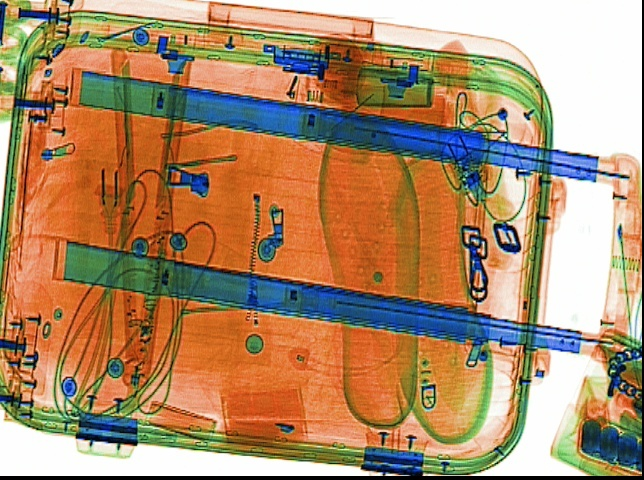powerbank: (573, 413, 640, 468)
